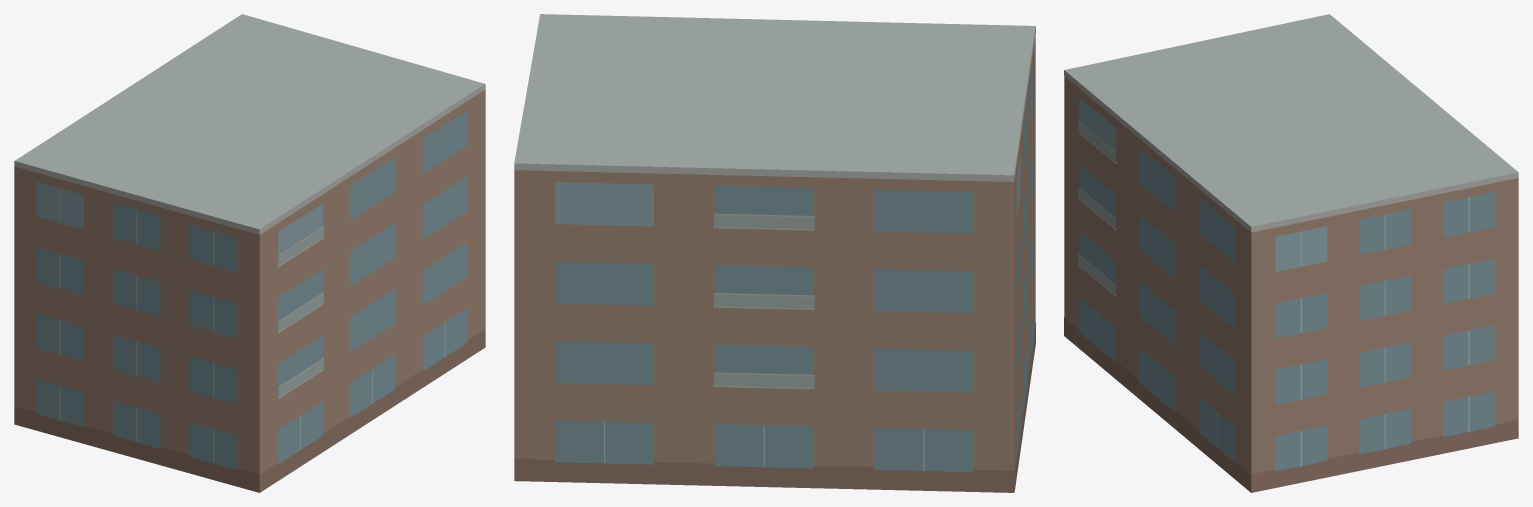
File: survey-upis-32985309.glb
The picture shows the model from 3 angles, left to right: view 1: azimuth 30°, elevation 25°; view 2: azimuth 150°, elevation 25°; view 3: azimuth 270°, elevation 25°; orthographic projection. The views are drawn at different scales.
Visible parts, largest first — view 1: survey-upis-32985309.tmp; view 2: survey-upis-32985309.tmp; view 3: survey-upis-32985309.tmp.
Part boxes in pixels (x1,y1,x2,y2): survey-upis-32985309.tmp: (14, 14, 485, 492); survey-upis-32985309.tmp: (514, 14, 1035, 492); survey-upis-32985309.tmp: (1064, 14, 1518, 492).
Size of the model in its own units: 19.93 by 11.6 by 17.98.
